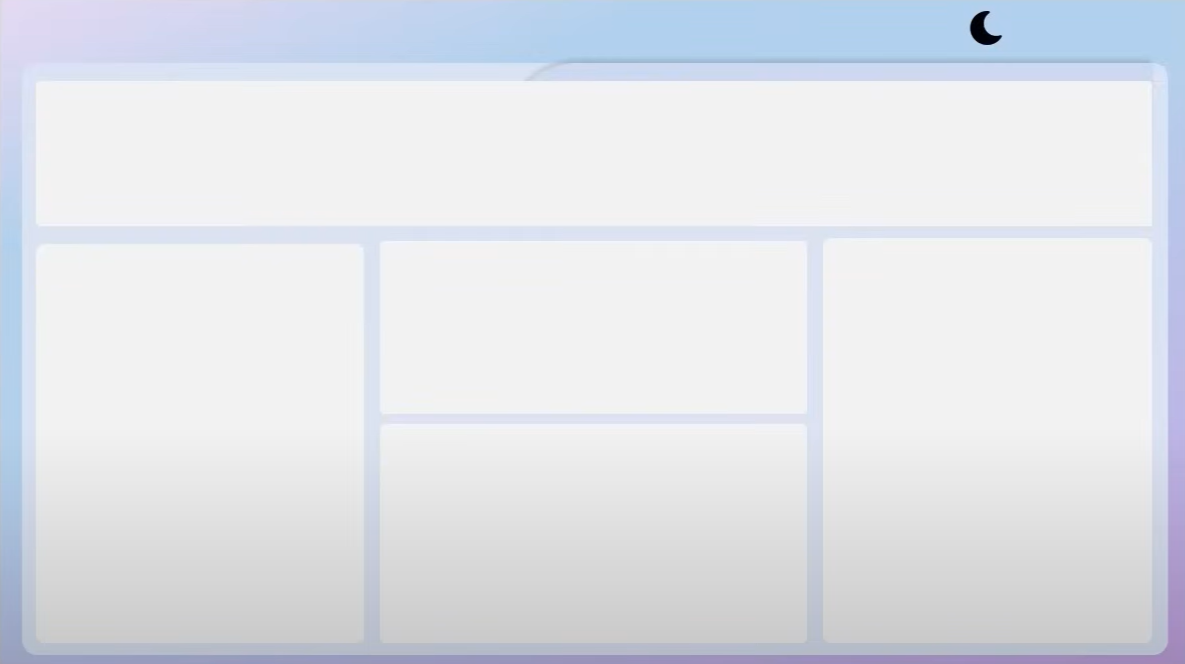

What the dashboard file says about the page in this screenshot:
{"tool":"powerbi","page":{"name":"Light","canvas":[1280,720],"ordinal":0},"visuals":[{"type":"cardVisual","fields":{"Data":["DAX Calculation.Total Billing Amount","DAX Calculation.Total Medication cost","DAX Calculation.Total Treatment Cost","DAX Calculation.Total Insurance Covered","DAX Calculation.Out-of-Pocket","DAX Calculation.Total Room Charges"]},"box":[42.9,65.2,1202.5,184.5],"z":0},{"type":"map","fields":{"Series":["cities.City"],"Category":["cities.City","cities.State"],"Size":["DAX Calculation.Total Billing Amount"]},"box":[41.4,330.8,346.8,356.3],"z":1000},{"type":"advancedSlicerVisual","fields":{"Values":["Patients Location Switch.Patients Location Switch"]},"box":[42.9,268.8,345.2,62],"z":2000},{"type":"clusteredColumnChart","title":"Total Billing Amount by Procedure","fields":{"Category":["procedures.Procedure"],"Y":["DAX Calculation.All Billing Amount"]},"box":[407.2,260.9,462.9,189.3],"z":3000},{"type":"hundredPercentStackedBarChart","fields":{"Category":["diagnoses.Diagnosis"],"Y":["DAX Calculation.Total Billing Amount"],"Series":["visits.Service Type"]},"box":[407.2,462.9,462.9,229],"z":4000},{"type":"clusteredBarChart","title":"Total Billing Amount by Department","fields":{"Category":["departments.Department"],"Y":["DAX Calculation.Blank Measure","DAX Calculation.Total Billing Amount"]},"box":[892.3,260.9,351.5,432.6],"z":5000},{"type":"textbox","box":[22.3,15.9,384.9,49.3],"z":6000},{"type":"image","box":[828.7,0,63.6,65.2],"z":7000},{"type":"textbox","box":[892.3,14.3,155.9,50.9],"z":8000}]}

Visuals, with their boxes in screenshot pixels (x1, y1, x2, y2), scaled from the page's 1280x720 canvas onto the 1185x664 screenshot:
cardVisual - DAX Calculation.Total Billing Amount x DAX Calculation.Total Medication cost: [left=40, top=60, right=1153, bottom=230]
map - cities.City x cities.City: [left=38, top=305, right=359, bottom=634]
advancedSlicerVisual - Patients Location Switch.Patients Location Switch: [left=40, top=248, right=359, bottom=305]
"Total Billing Amount by Procedure" clusteredColumnChart: [left=377, top=241, right=806, bottom=415]
hundredPercentStackedBarChart - diagnoses.Diagnosis x DAX Calculation.Total Billing Amount: [left=377, top=427, right=806, bottom=638]
"Total Billing Amount by Department" clusteredBarChart: [left=826, top=241, right=1151, bottom=640]
textbox: [left=21, top=15, right=377, bottom=60]
image: [left=767, top=0, right=826, bottom=60]
textbox: [left=826, top=13, right=970, bottom=60]
